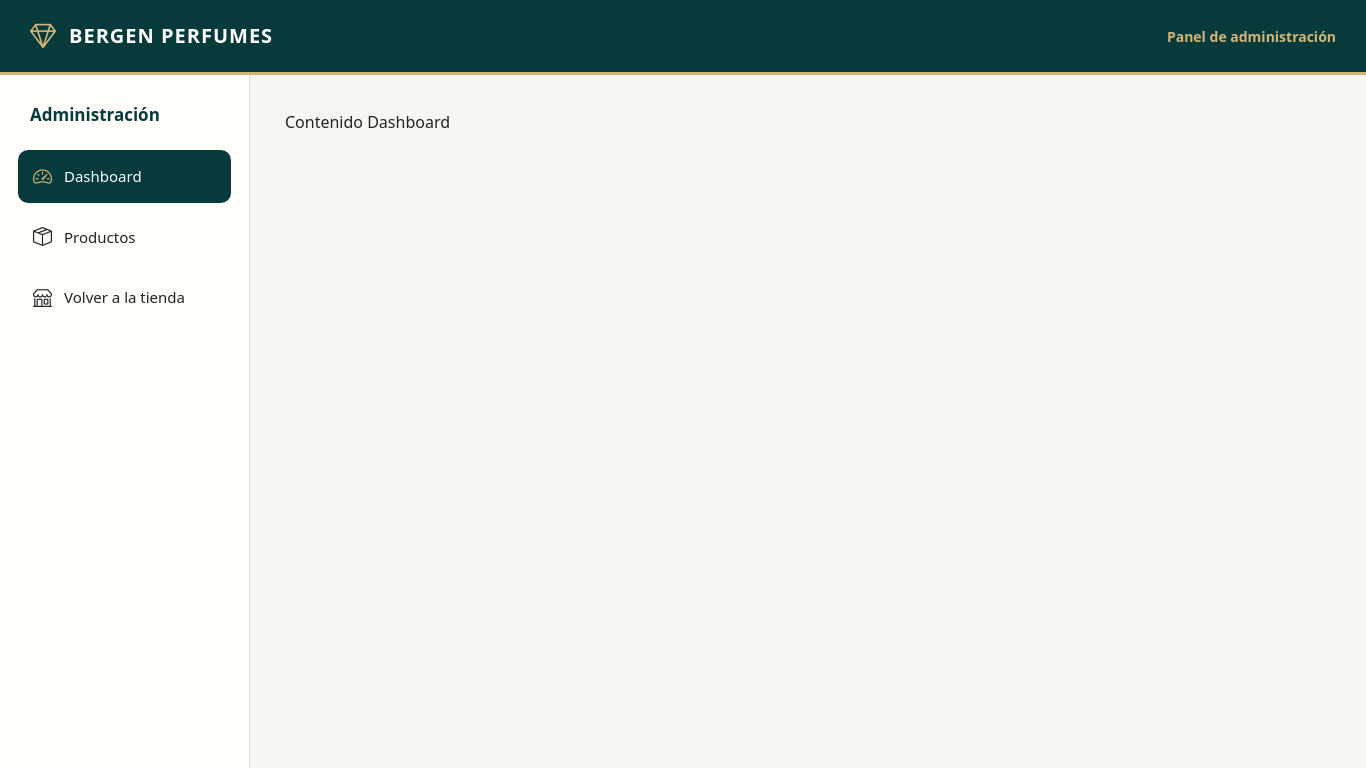
Test: LayoutAdmin Component › permite navegar entre Dashboard y Productos
Expected: the text "Contenido Dashboard" is shown, [285,111,450,133]
Step 1. Click the link to "/admin/productos" → coordinates (84, 237), box [33,223,135,251]
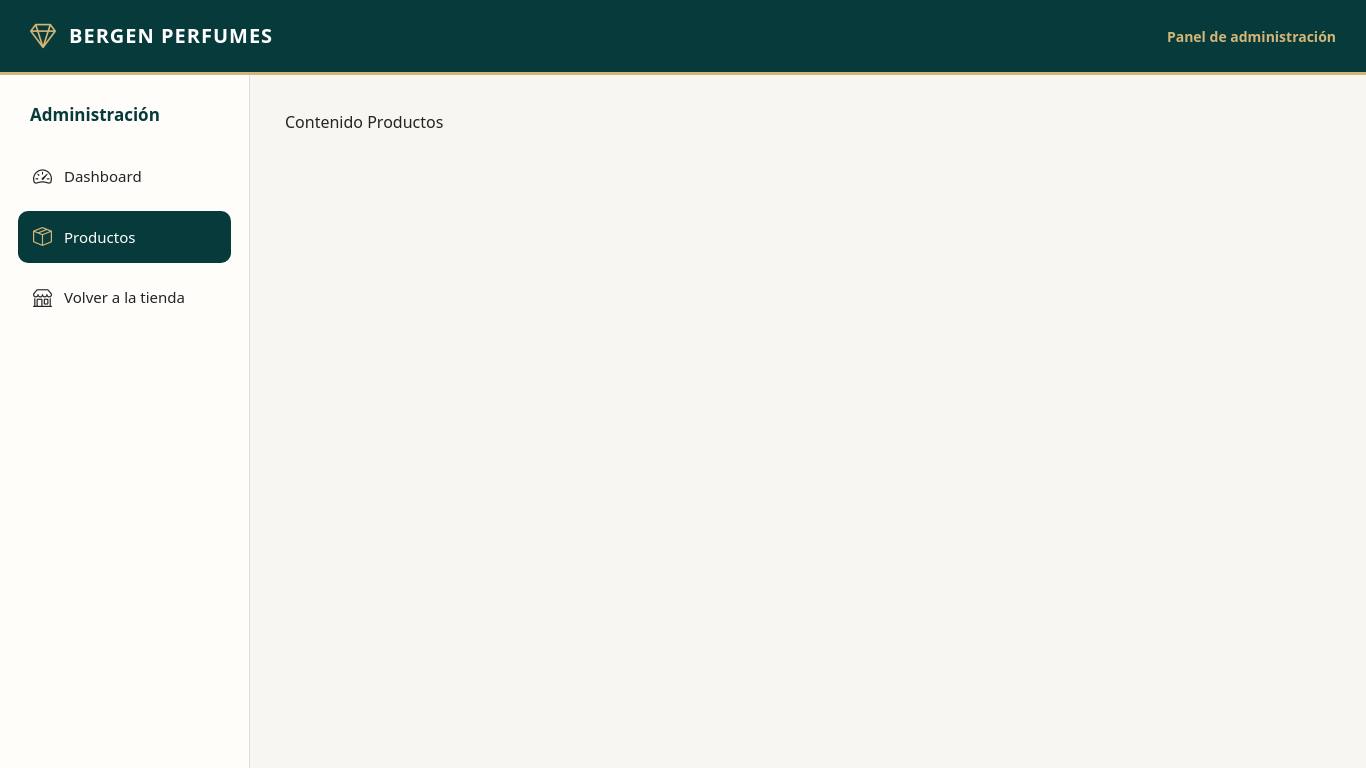
Result: the text "Contenido Productos" is shown at [285,111,443,133]
Result: the text "Contenido Dashboard" is gone
